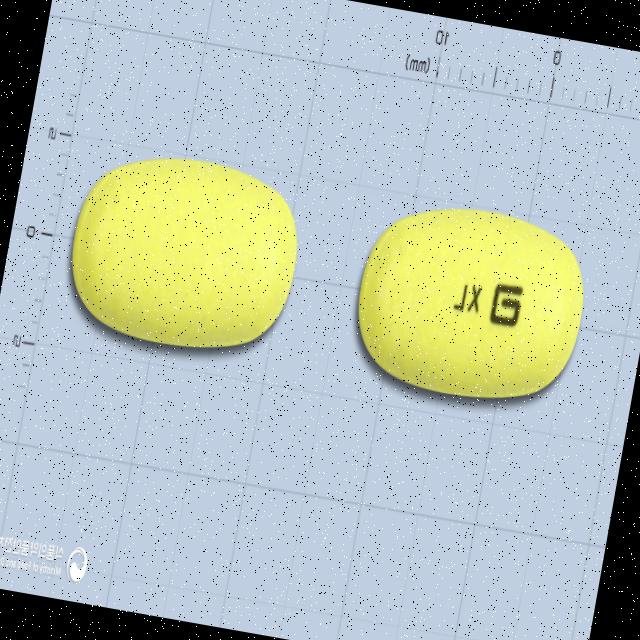Klaricid-Xl: (342, 190, 598, 416), (57, 140, 311, 364)
